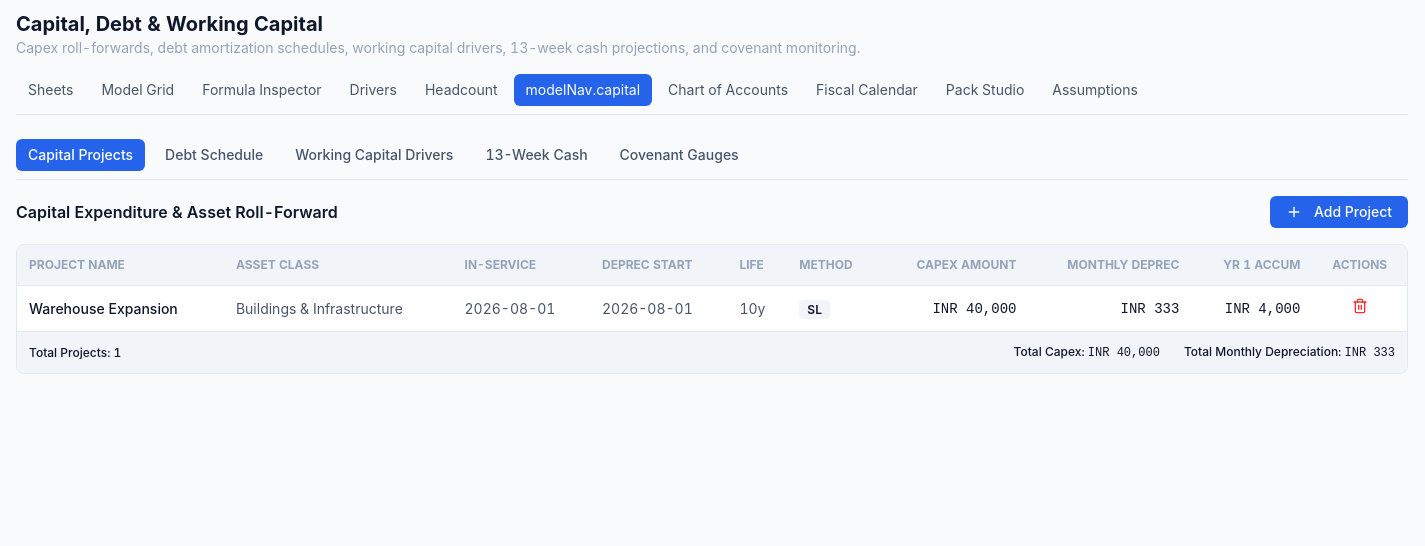
S-046 Capital, Debt & Working Capital screen (F-017 · M3-7) › switches to Working Capital Drivers and updates driver values
The image size is (1425, 546).
Click the tab "Working Capital Drivers" at [374, 155], box x1=283 y1=139 x2=465 y2=171
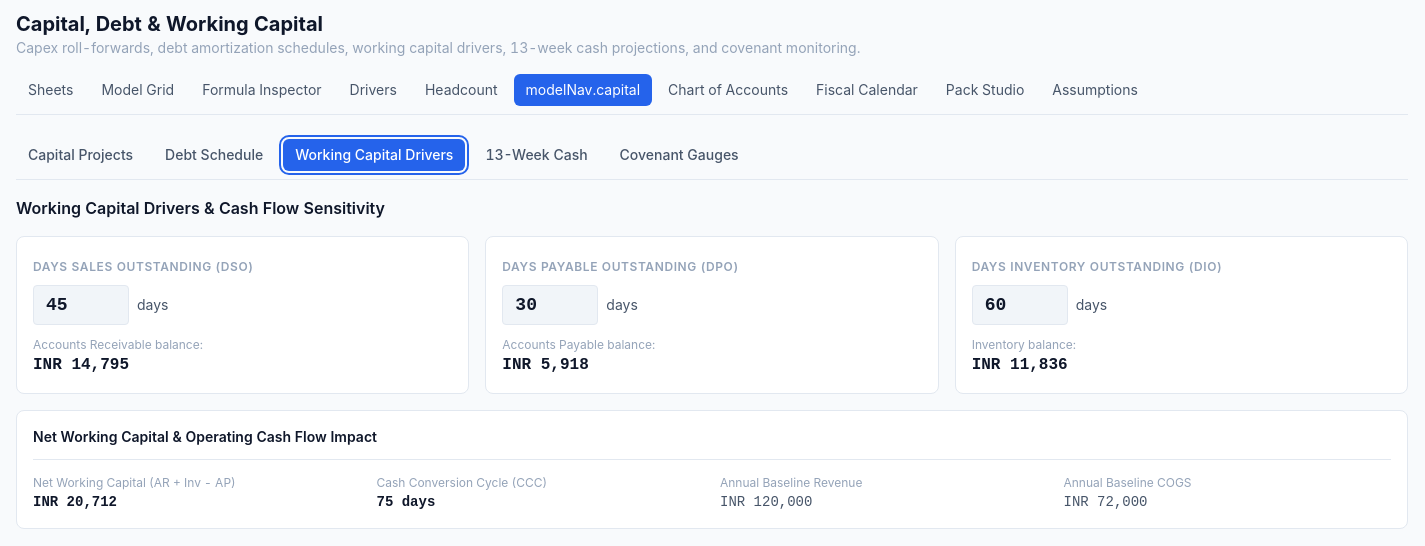
Result: the heading "Working Capital Drivers & Cash Flow Sensitivity" is shown at x1=16 y1=198 x2=385 y2=218
Result: the text "Days Sales Outstanding (DSO)" is shown at x1=33 y1=259 x2=254 y2=274
Result: the text "Days Payable Outstanding (DPO)" is shown at x1=502 y1=259 x2=739 y2=274
